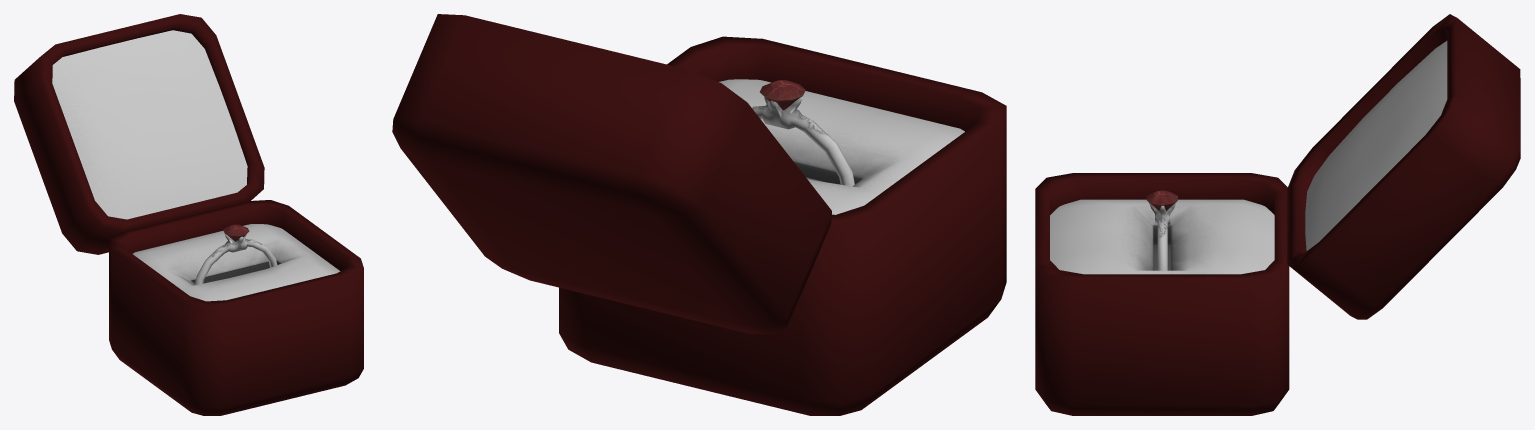
File: valentines_ring_01.fbx
3 views of the same model, side by side, from view 1: azimuth 30°, elevation 25°; view 2: azimuth 150°, elevation 25°; view 3: azimuth 270°, elevation 25° (orthographic). The views are drawn at different scales.
Visible parts, largest first — view 1: ring box 01; view 2: ring box 01; view 3: ring box 01.
Boxes of the visible parts, x1,y1,x2,y2 form: ring box 01: [14, 14, 363, 415]; ring box 01: [392, 14, 1006, 415]; ring box 01: [1035, 14, 1520, 415].
Bounding box in the file's own units: 22.91 × 31.62 × 43.78.
